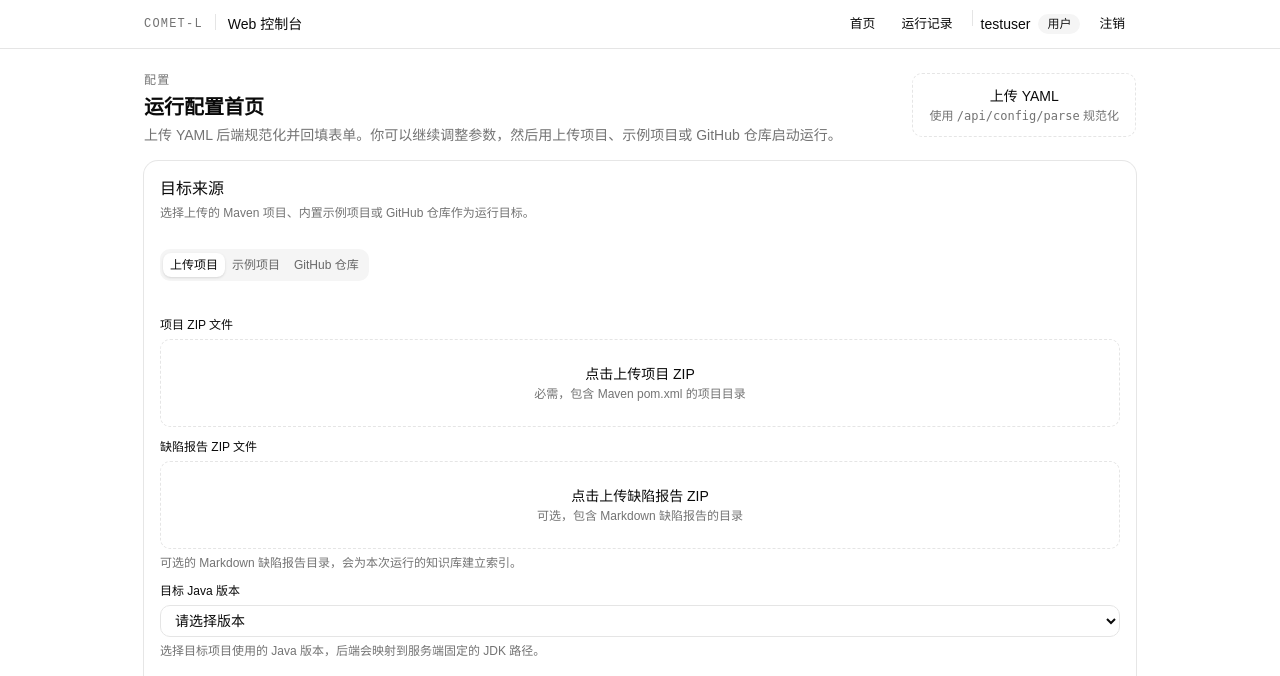
HomePage admin local path and GitHub modes › does not show an admin restriction notice in GitHub mode
The image size is (1280, 676).
Expected: the file field named "上传项目 ZIP" is shown, x1=160 y1=318 x2=233 y2=332
Click the tab "GitHub 仓库".
click(326, 265)  # box x1=287 y1=253 x2=366 y2=277
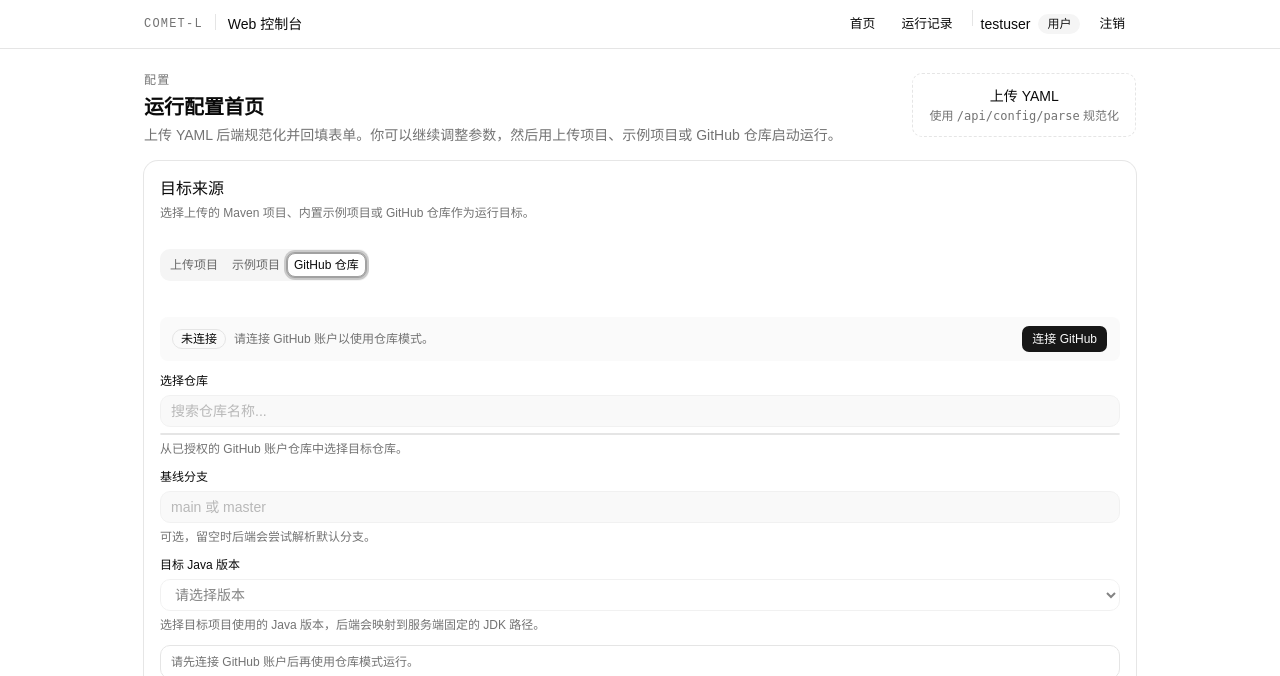
Now the icon "未连接" is shown, box x1=172 y1=329 x2=226 y2=349
